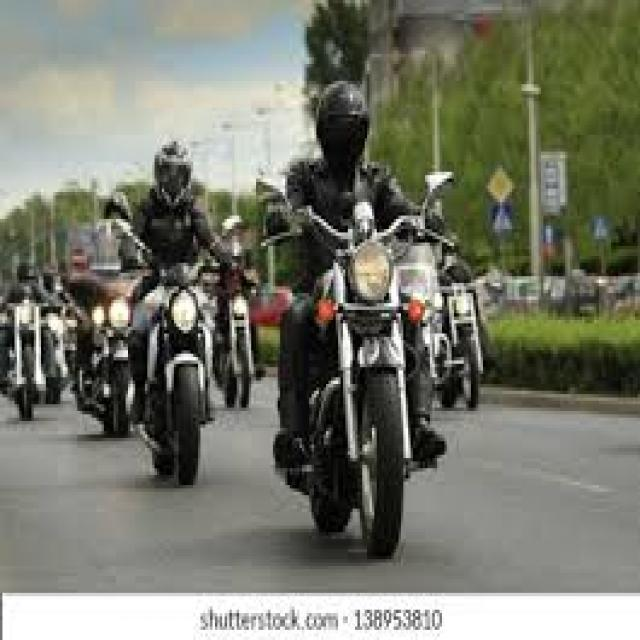Bike: (252, 172, 454, 560), (108, 215, 244, 487), (68, 238, 156, 430), (435, 258, 508, 416), (213, 255, 269, 414), (1, 285, 62, 420)
